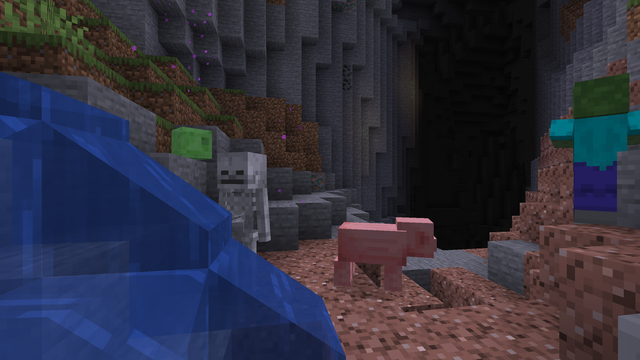cochons: (338, 219, 412, 294)
slimes: (170, 126, 210, 159)
squelettes: (216, 152, 263, 301)
zombies: (558, 76, 635, 227)
